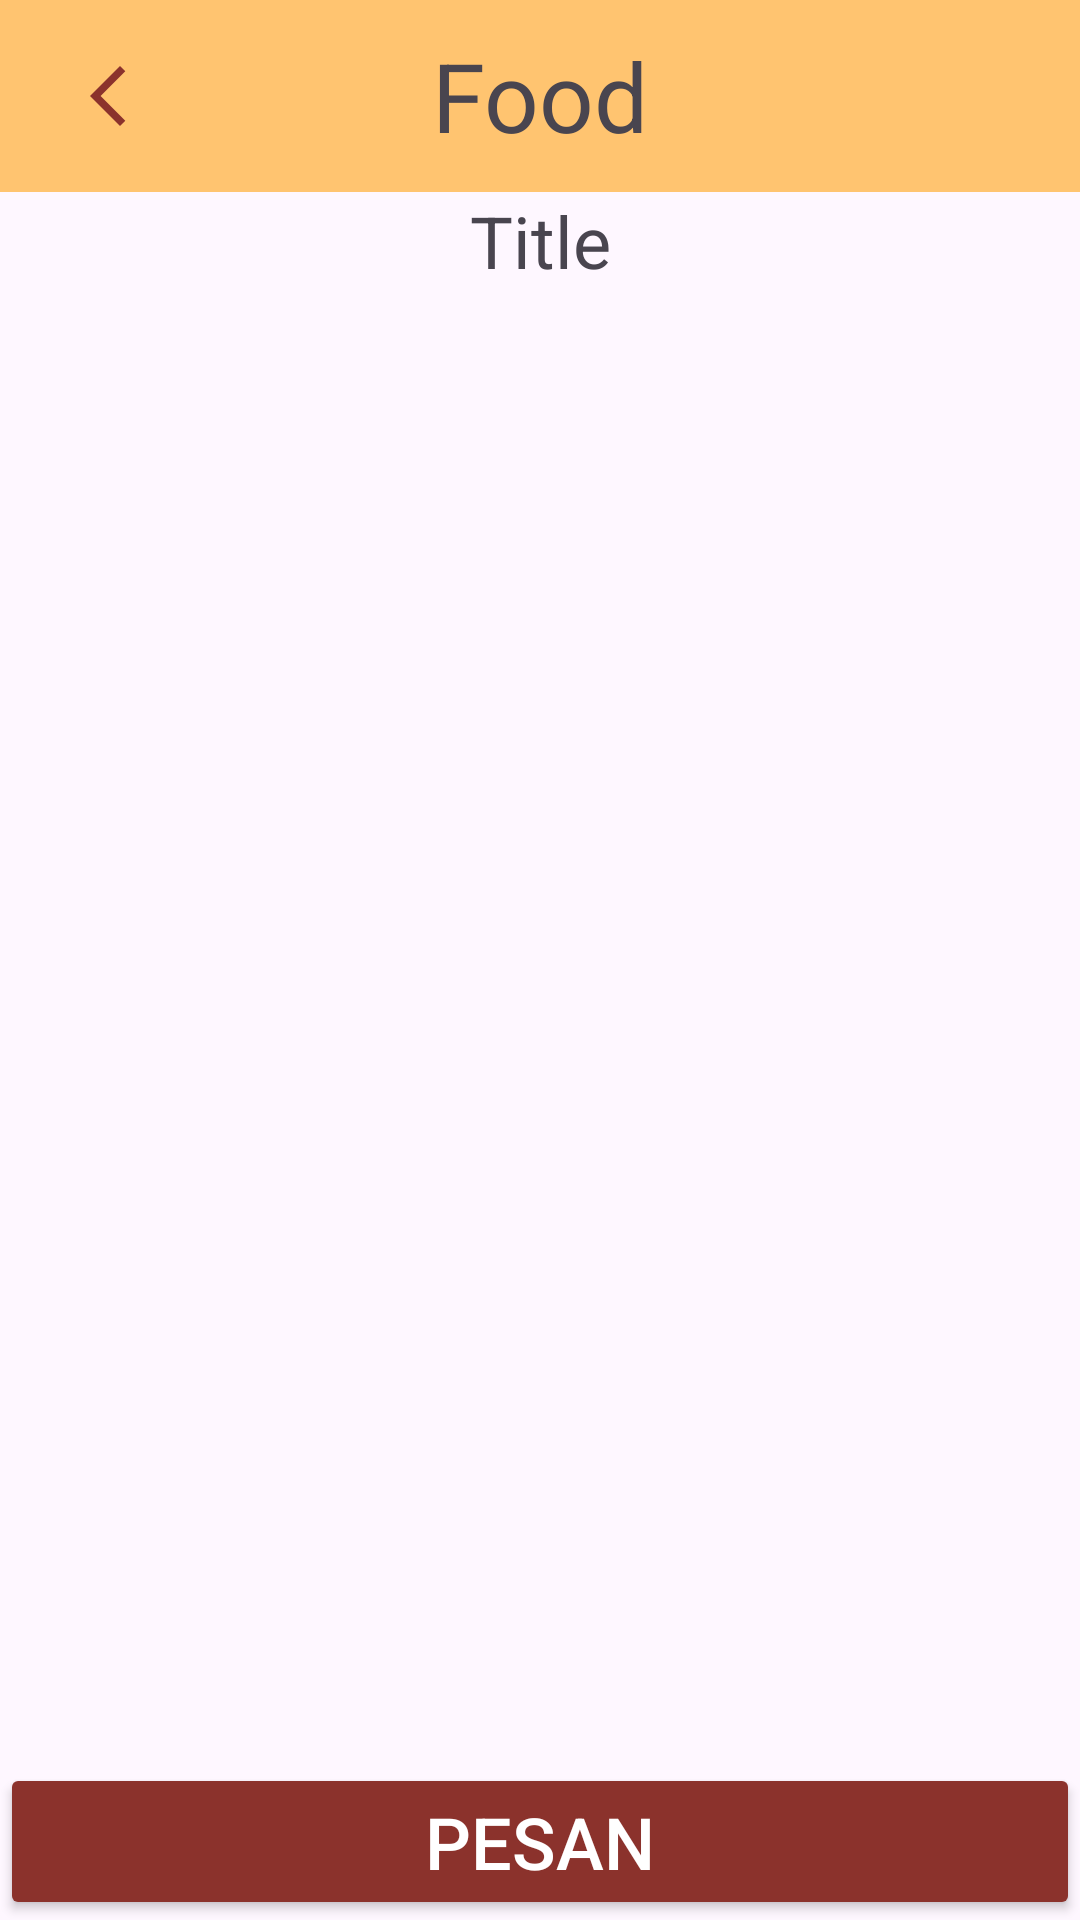

Icon click points for this 1080w x 1920h phone screenshot, format (x=x, y=y):
back: (x=107, y=96)
